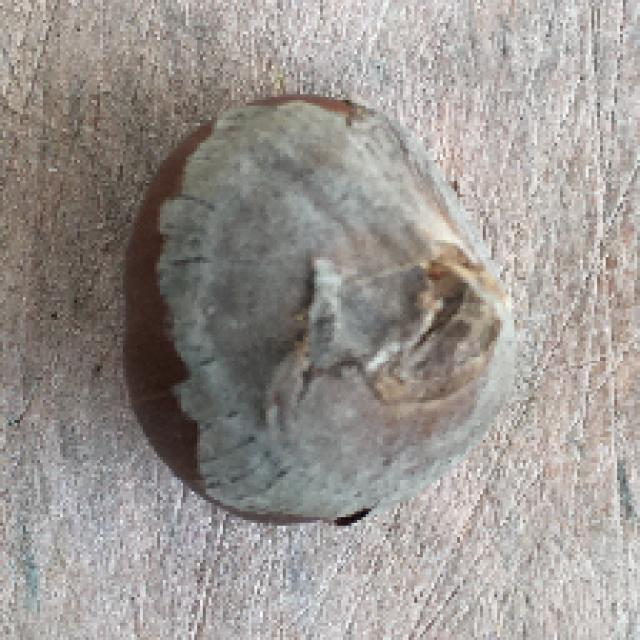DamagedHazelnut: (118, 95, 517, 535)
